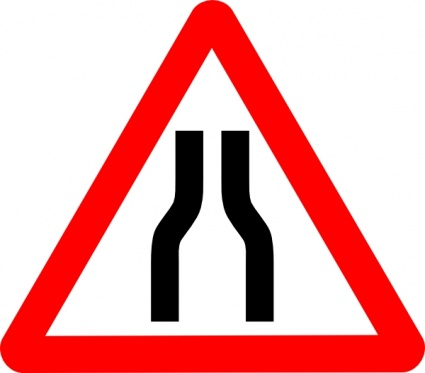narrow-road: (144, 116, 282, 337)
